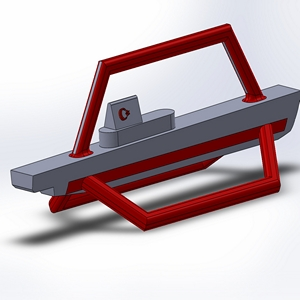submarine: (2, 4, 300, 243)
